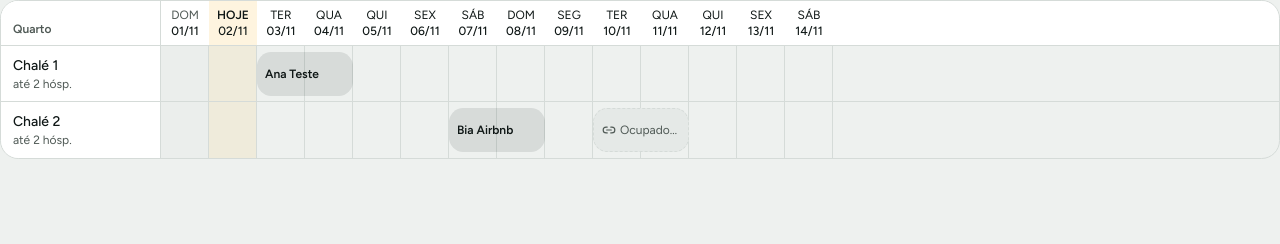
Scenario: mapa de ocupação › soltar em cima de outra ocupação avisa e não abre nada
The image size is (1280, 244).
Press the mouse on the button with aria-label "Ana Teste, Chalé 1" at (305, 74), box [257, 52, 353, 96]
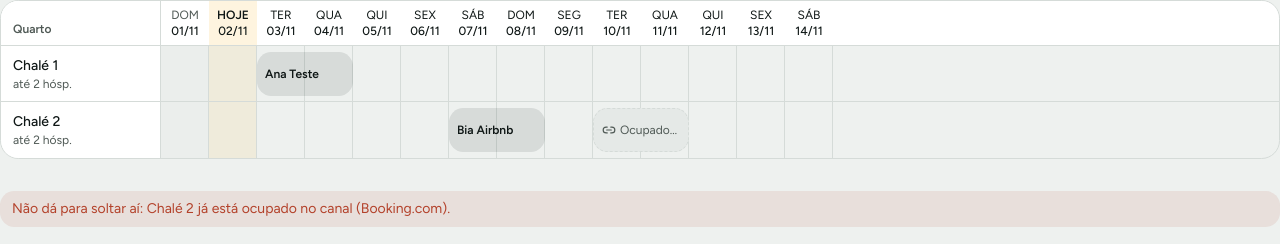
expect the message shows "Não dá para soltar aí": met, box [12, 200, 450, 217]
